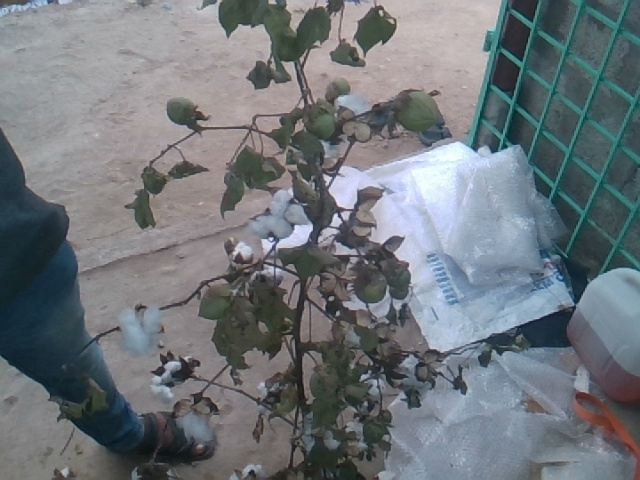cotton: (256, 190, 305, 239), (121, 308, 162, 353)
